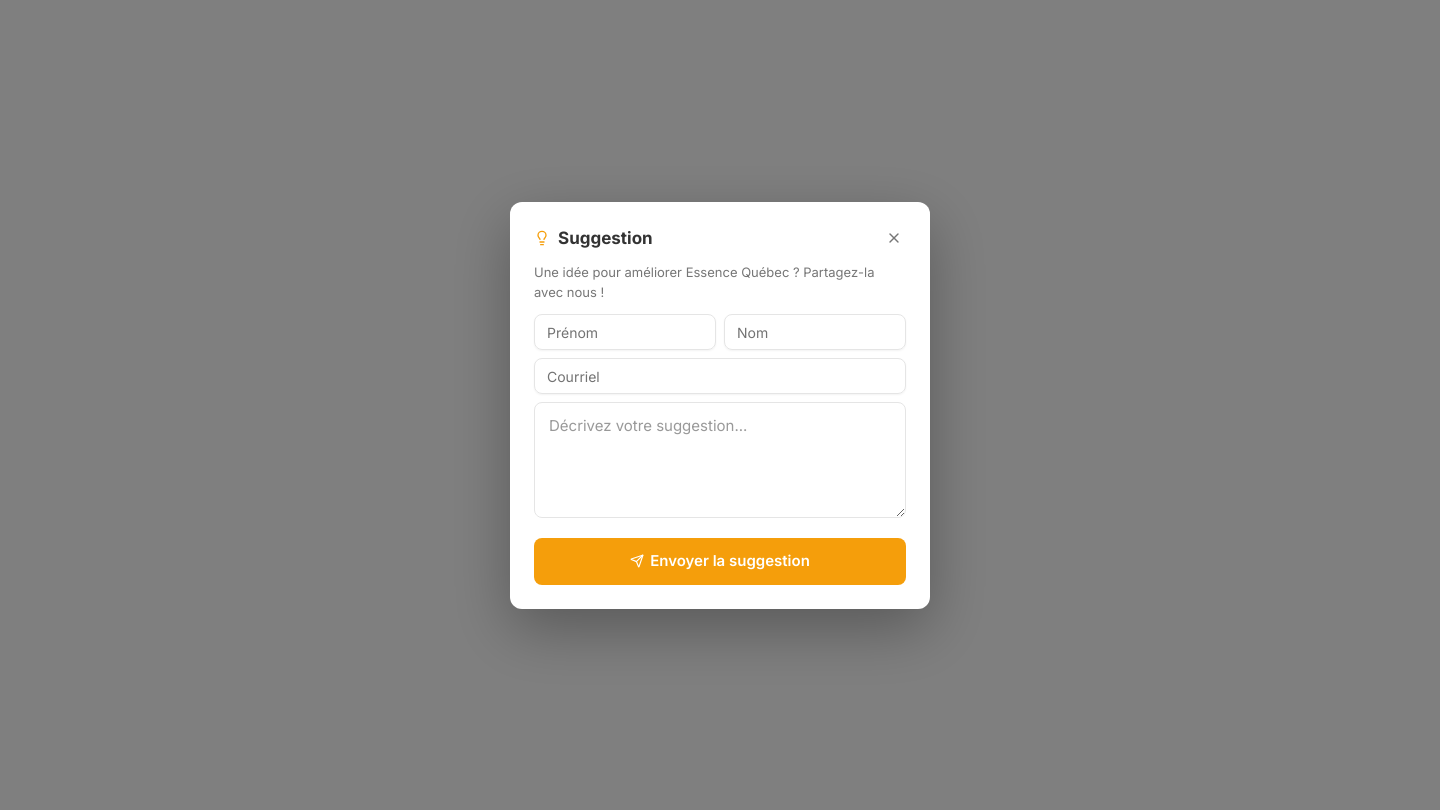
SuggestionModal › affiche les erreurs de validation quand les champs sont vides
Click the button "Envoyer la suggestion" at coordinates (720, 561), box [534,538,906,584]
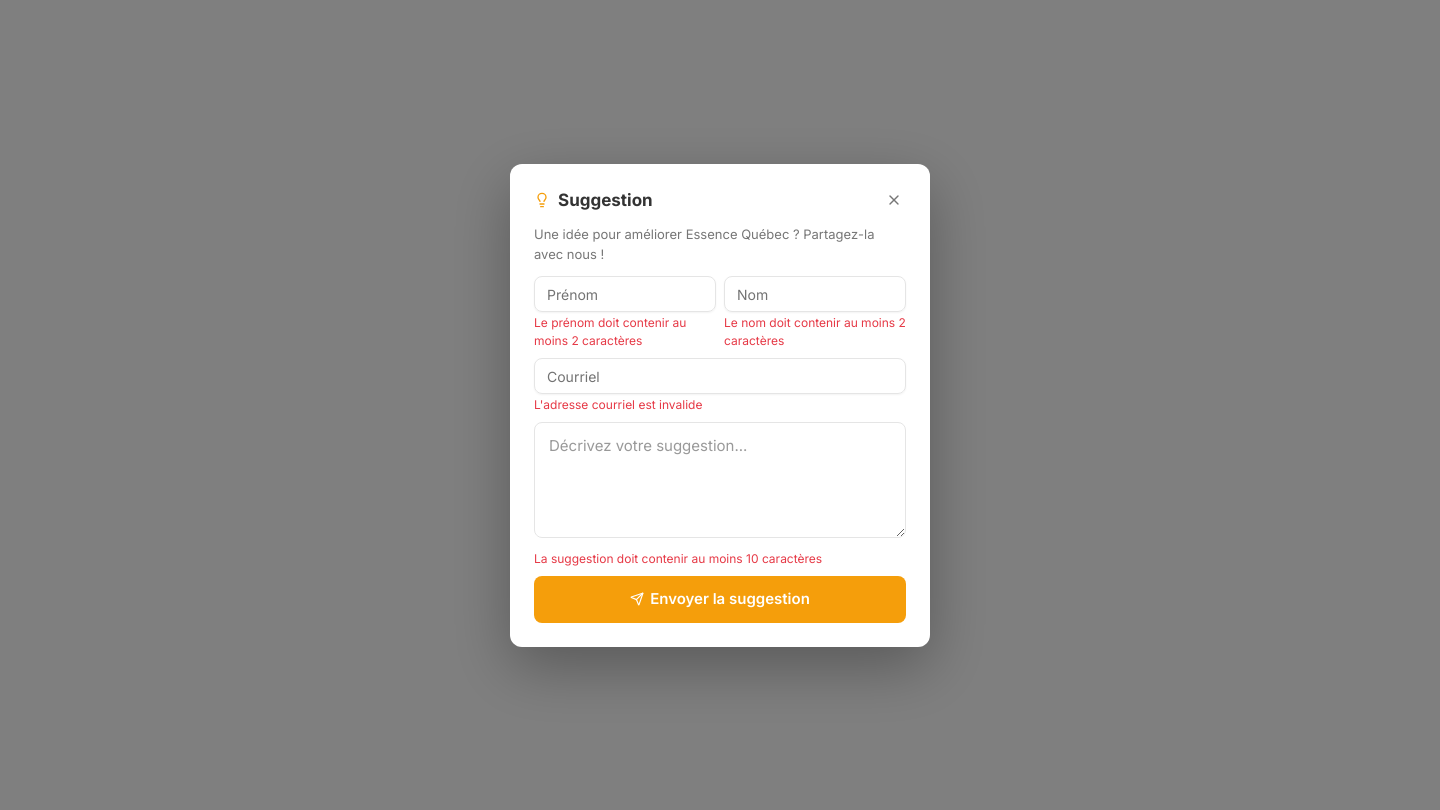
Now the text "Le prénom doit contenir au moins 2 caractères" is shown, box [534,315,686,348]
Now the text "Le nom doit contenir au moins 2 caractères" is shown, box [724,314,906,350]
Now the text "L'adresse courriel est invalide" is shown, box [534,397,702,412]
